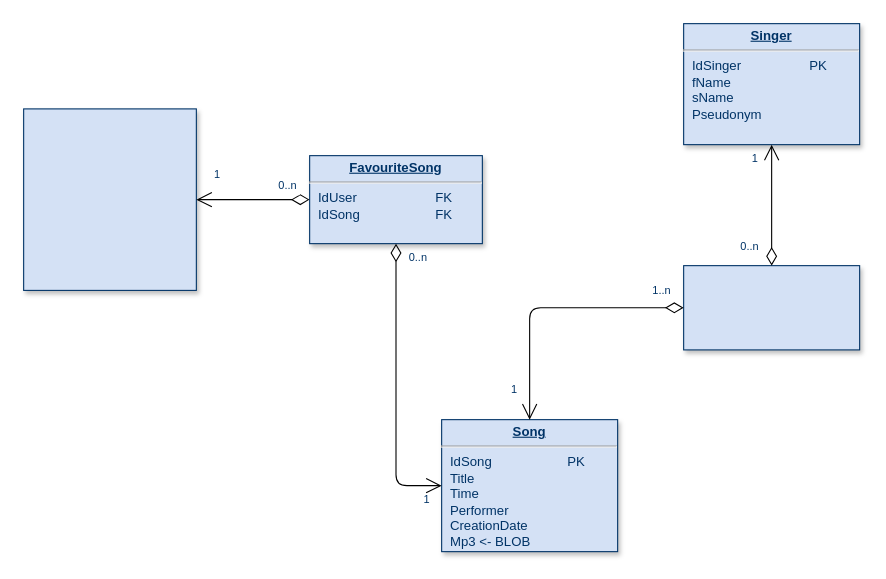
This 886x579 diagram has some shape labels left out. The centre of each missing label's shape, as x and y in pixels:
"Song_Singer IdSong FK IdSinger FK" goes at (x=772, y=309).
"User Email PK Nick PK P assword fName sName PremiumStatus JoinDate OnlineTime" goes at (x=110, y=200).
